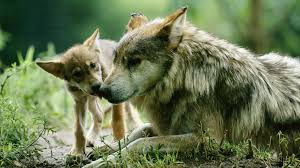Lobo: (107, 6, 283, 147), (39, 33, 114, 141)
